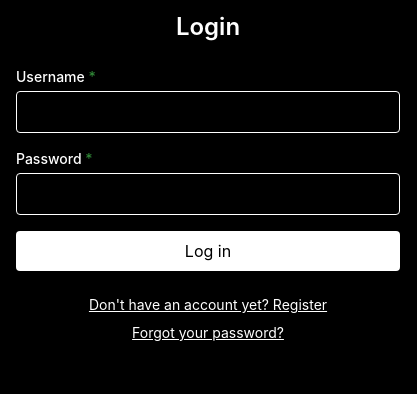
Test: LoginView › shows an error message and stays on the page when login fails
In the field labelled "Username *": (208, 112) [16, 91, 400, 133], type "anna"
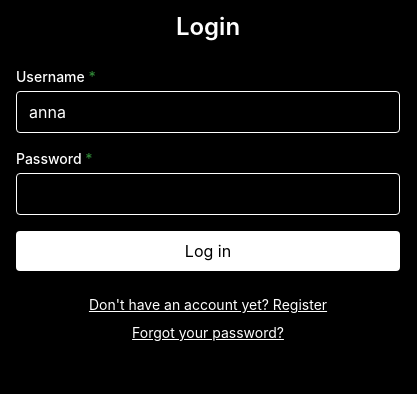
In the password field labelled "Password *": (208, 194) [16, 173, 400, 215], type "wrong"
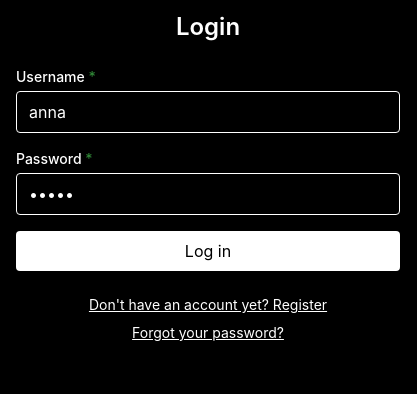
Click the button "Log in": (208, 251) [16, 231, 400, 271]
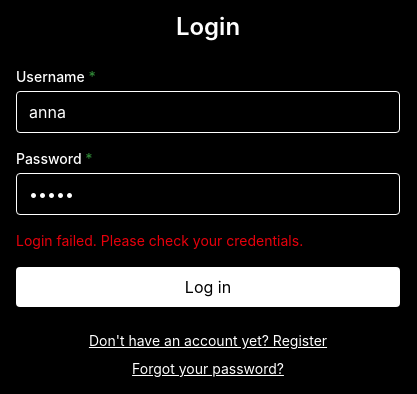
expect the text "Login failed. Please check your credentials." is shown: met, box [16, 232, 303, 249]
